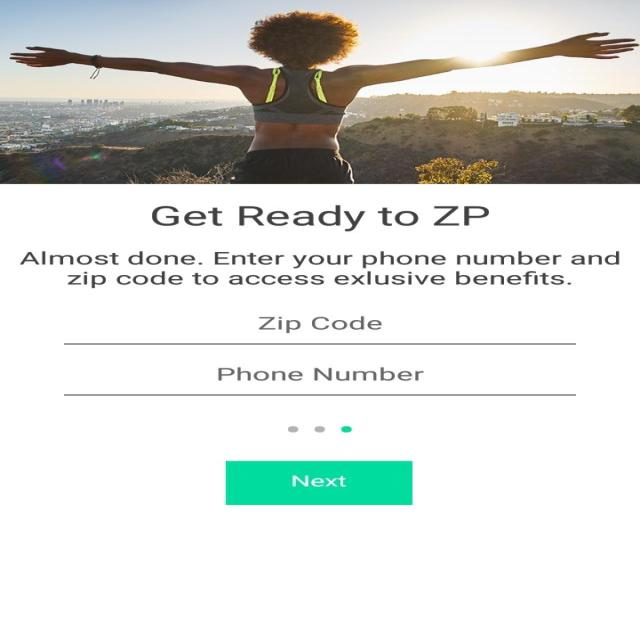EditText: (63, 366, 576, 396), (64, 316, 576, 344)
Image: (0, 0, 639, 184)
Text: (19, 250, 620, 288), (151, 204, 490, 231), (216, 366, 423, 381), (258, 315, 382, 333)
TextButton: (225, 461, 412, 505)
